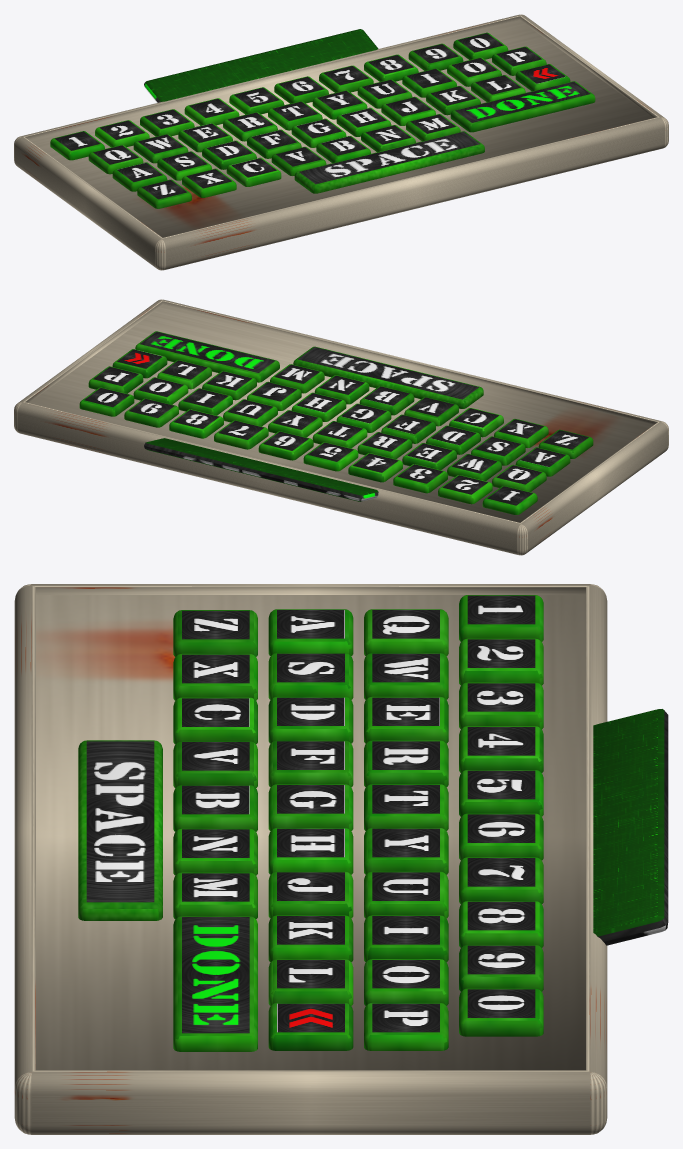
Rendered from keyboard.fbx.
3 views of the same model, one above another, from view 1: azimuth 30°, elevation 25°; view 2: azimuth 150°, elevation 25°; view 3: azimuth 270°, elevation 25° (orthographic). The views are drawn at different scales.
Visible parts, largest first — view 1: case, Cube, Key space, Key done, Key c, Key z, Key x, Key 1, Key 5, Key 6, Key 4, Key 7 (+29 smaller); view 2: case, Key space, Cube, Key done, Key 6, Key 0, Key 5, Key 7, Key 8, Key 9, Key 1, Key 4 (+29 smaller); view 3: case, Cube, Key space, Key done, Key del, Key 0, Key p, Key f, Key j, Key d, Key 3, Key 6 (+29 smaller).
Boxes of the visible parts, bbox=[...] form: case: bbox=[14, 14, 668, 270]; Cube: bbox=[144, 29, 378, 102]; Key space: bbox=[294, 131, 484, 193]; Key done: bbox=[450, 81, 595, 132]; Key c: bbox=[226, 157, 281, 186]; Key z: bbox=[137, 179, 191, 208]; Key x: bbox=[182, 168, 236, 197]; Key 1: bbox=[50, 131, 104, 160]; Key 5: bbox=[229, 87, 284, 114]; Key 6: bbox=[274, 76, 328, 103]; Key 4: bbox=[184, 98, 239, 125]; Key 7: bbox=[319, 65, 373, 92]; case: bbox=[14, 299, 668, 555]; Key space: bbox=[293, 346, 483, 408]; Cube: bbox=[144, 438, 378, 501]; Key done: bbox=[135, 331, 279, 382]; Key 6: bbox=[258, 431, 313, 460]; Key 0: bbox=[79, 387, 134, 416]; Key 5: bbox=[303, 442, 358, 471]; Key 7: bbox=[214, 420, 268, 449]; Key 8: bbox=[169, 409, 223, 438]; Key 9: bbox=[124, 398, 178, 427]; Key 1: bbox=[482, 486, 537, 514]; Key 4: bbox=[348, 453, 402, 482]; case: bbox=[14, 584, 607, 1134]; Cube: bbox=[593, 709, 668, 945]; Key space: bbox=[78, 740, 162, 920]; Key done: bbox=[173, 916, 257, 1051]; Key del: bbox=[268, 1002, 353, 1050]; Key 0: bbox=[459, 988, 543, 1036]; Key p: bbox=[364, 1002, 448, 1050]; Key f: bbox=[268, 740, 353, 787]; Key j: bbox=[268, 871, 353, 918]; Key d: bbox=[268, 696, 353, 743]; Key 3: bbox=[459, 682, 543, 728]; Key 6: bbox=[459, 813, 543, 860].
Size of the model in its own units: 140 by 10.04 by 77.21.
Materials: 3 (3 with a texture image).
